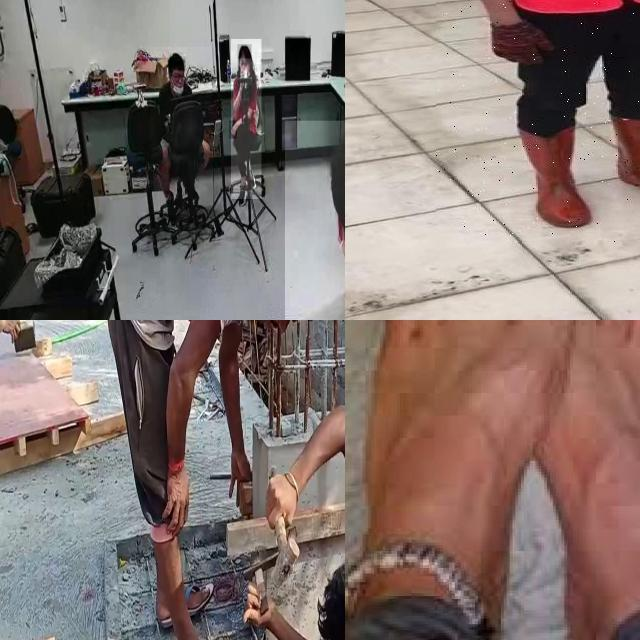Barefoots: (345, 320, 640, 627)
Sandals: (171, 614, 236, 640)
boots: (518, 126, 594, 228), (609, 115, 640, 209)
face_mask: (239, 61, 253, 85)
hand_noglove: (161, 442, 191, 539), (264, 465, 304, 525), (0, 320, 21, 341), (238, 66, 246, 86), (229, 121, 237, 139)
head_nohelmet: (329, 120, 345, 189), (167, 52, 185, 68), (238, 44, 252, 60)
person: (436, 0, 640, 242), (150, 47, 213, 216), (231, 39, 262, 200)
shoes: (236, 181, 248, 210), (245, 168, 258, 192)
